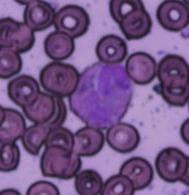E: (70, 62, 134, 128)
